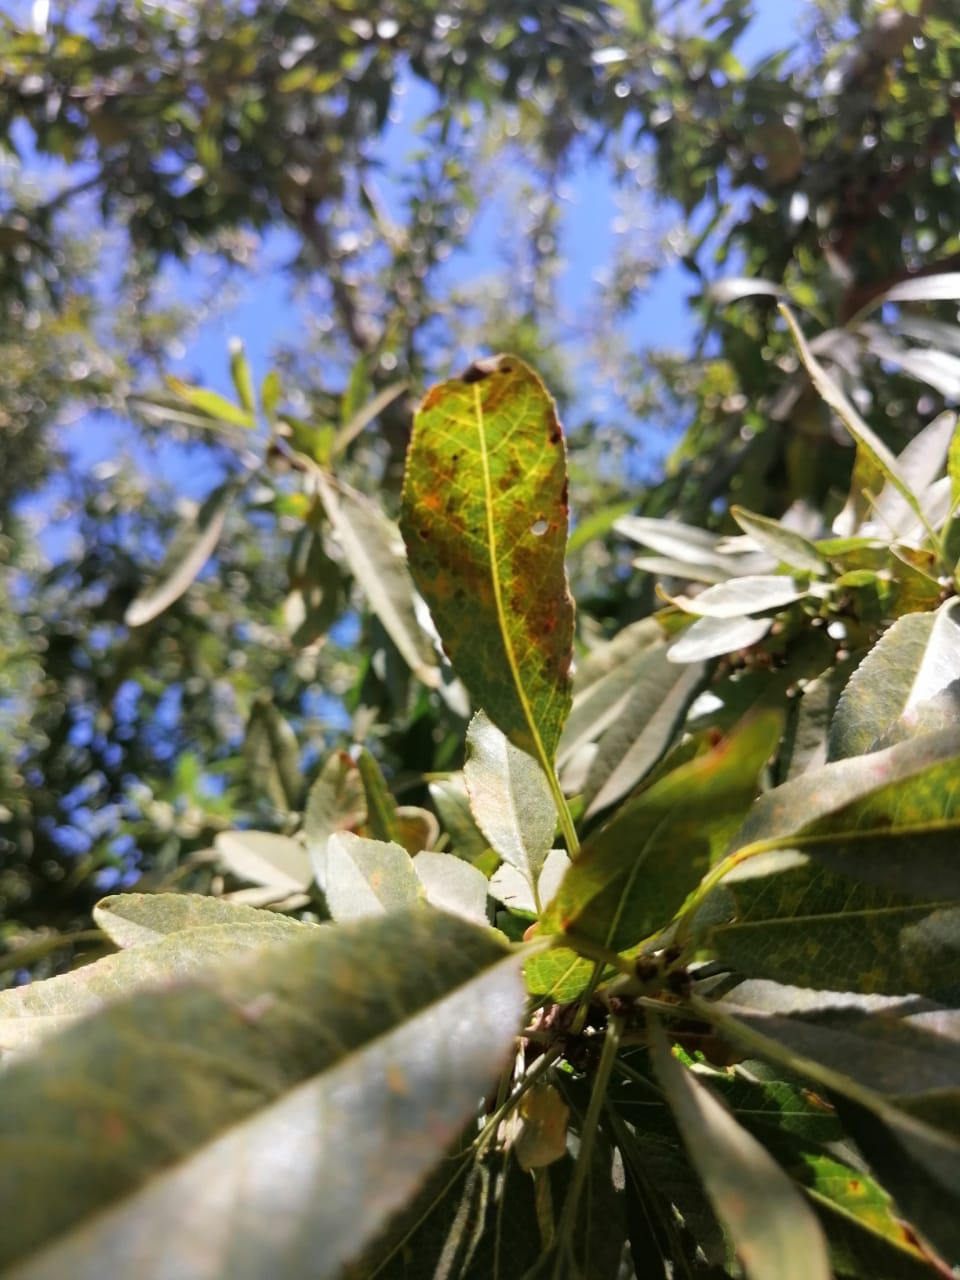rouille: (1, 902, 537, 1280), (396, 349, 586, 783), (544, 676, 787, 967), (736, 1114, 960, 1280)
